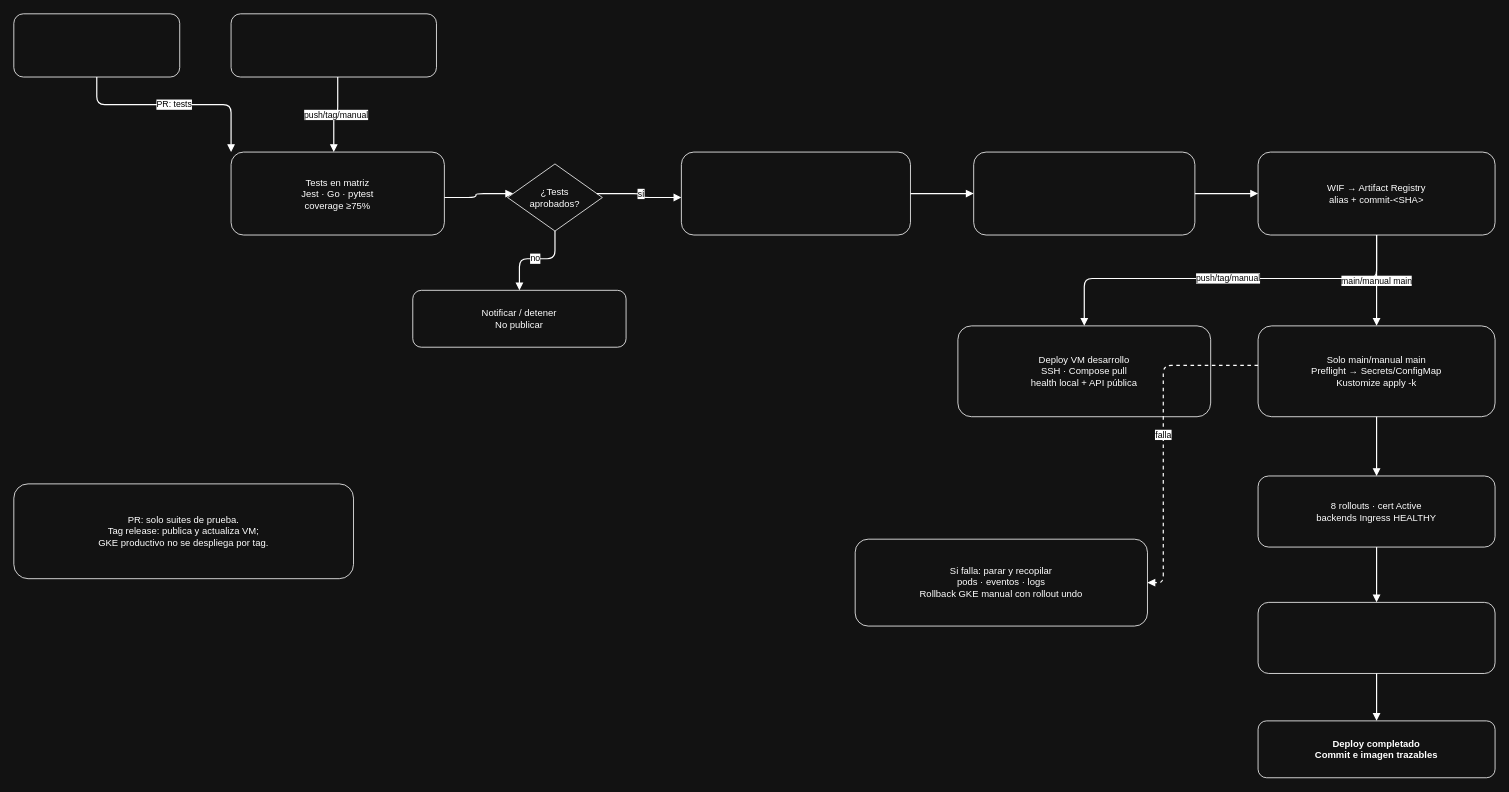
The diagram is 1509 pixels wide and 792 high, and some of its shapes have lost their labels. The shapes that lost their labels are listed below. From the top down, each one's centre as x and y in pixels, then its label:
At pixel 96 45: "Pull Request main / develop".
At pixel 333 45: "Push main · tag vX.Y.Z workflow_dispatch main".
At pixel 795 193: "Resolver alias main / vX.Y.Z commit-SHA inmutable".
At pixel 1084 193: "Build de 8 imágenes Frontend + Gateway 6 microservicios".
At pixel 1376 637: "Smoke HTTPS / · /healthz · /api/health".
